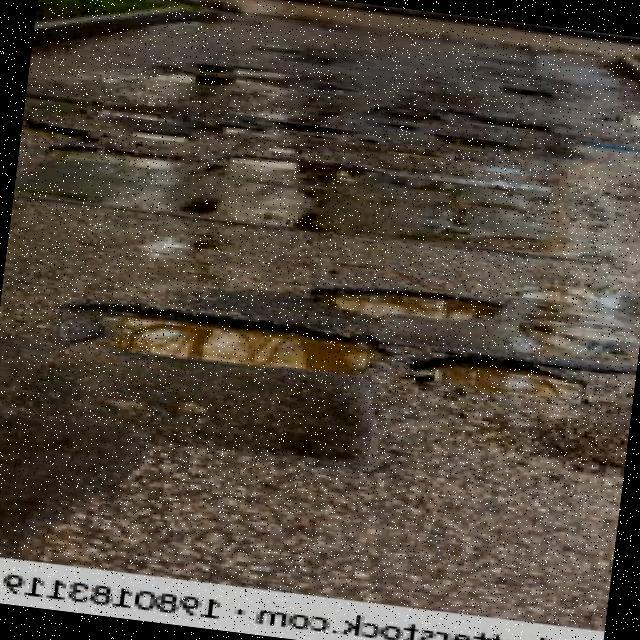Pothole: (95, 313, 379, 379), (407, 357, 580, 403), (313, 288, 501, 321)
